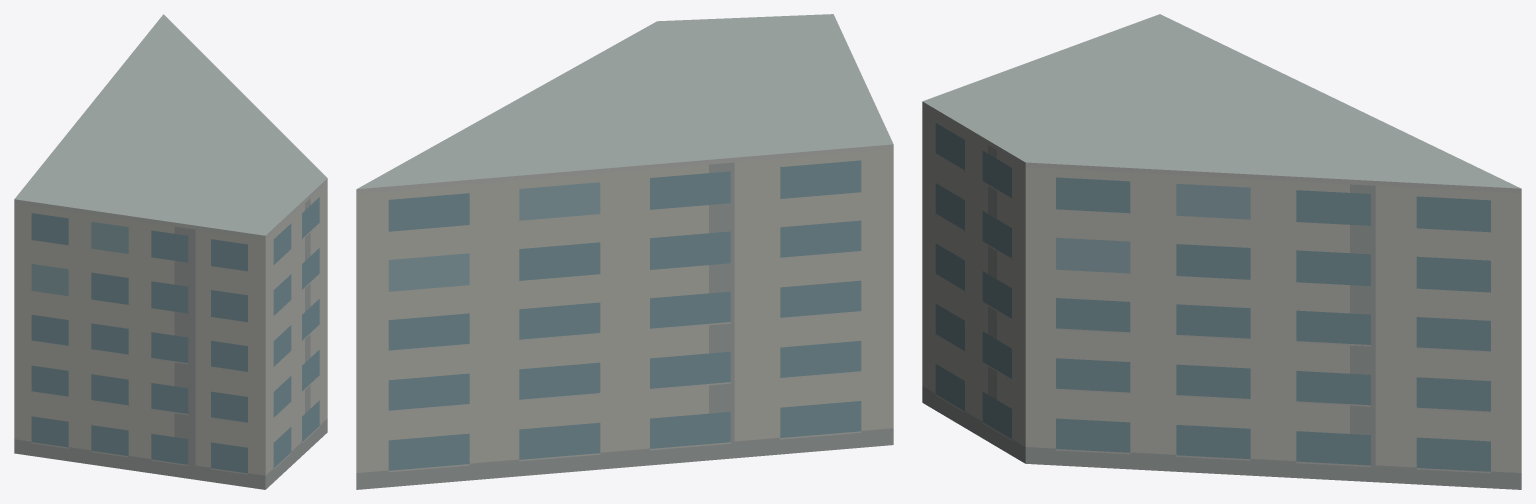
File: residential-d6911275-7784-41fb-88fe-cad988508da8.glb
The picture shows the model from 3 angles, left to right: view 1: azimuth 30°, elevation 25°; view 2: azimuth 150°, elevation 25°; view 3: azimuth 270°, elevation 25°; orthographic projection. The views are drawn at different scales.
Parts seen in each view (by area): view 1: residential-d6911275-7784-41fb-88fe-cad988508da8.tmp; view 2: residential-d6911275-7784-41fb-88fe-cad988508da8.tmp; view 3: residential-d6911275-7784-41fb-88fe-cad988508da8.tmp.
Boxes of the visible parts, x1,y1,x2,y2 form: residential-d6911275-7784-41fb-88fe-cad988508da8.tmp: (14, 14, 327, 489); residential-d6911275-7784-41fb-88fe-cad988508da8.tmp: (356, 14, 893, 489); residential-d6911275-7784-41fb-88fe-cad988508da8.tmp: (922, 14, 1521, 489).
Bounding box in the file's own units: 18.96 × 15.25 × 27.49.
